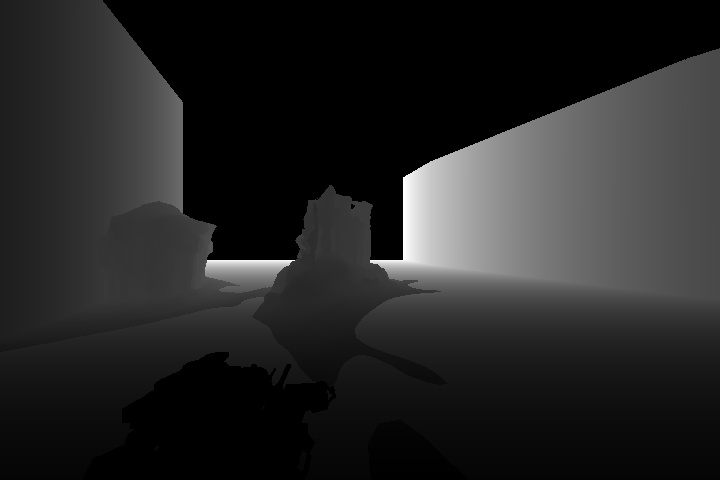green rock: (251, 181, 444, 359), (88, 199, 253, 329)
